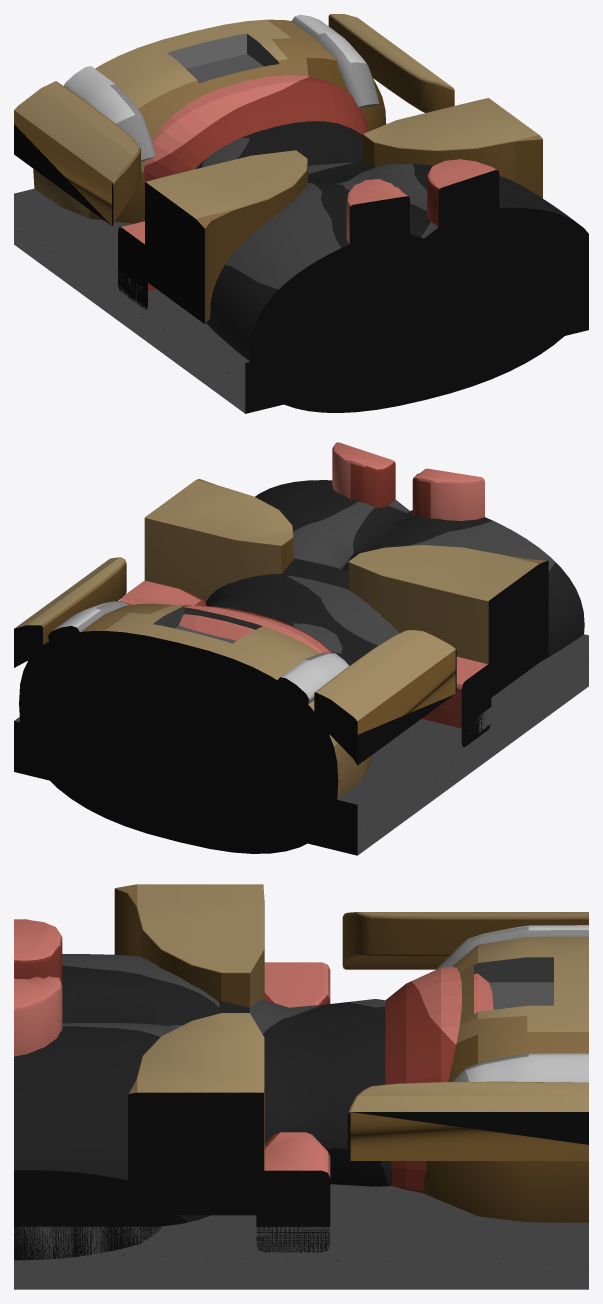
Rendered from tusk_boss_core.glb.
3 renders of one model, top to bottom at view 1: azimuth 30°, elevation 25°; view 2: azimuth 150°, elevation 25°; view 3: azimuth 270°, elevation 25°, orthographic. The views are drawn at different scales.
Visible parts, largest first — view 1: tusk_boss_core; view 2: tusk_boss_core; view 3: tusk_boss_core.
Part boxes in pixels (left/top/right/bottom): tusk_boss_core: left=14, top=14, right=588, bottom=413; tusk_boss_core: left=14, top=442, right=588, bottom=855; tusk_boss_core: left=14, top=884, right=588, bottom=1289.
Bounding box in the file's own units: 24 × 14.5 × 28.
